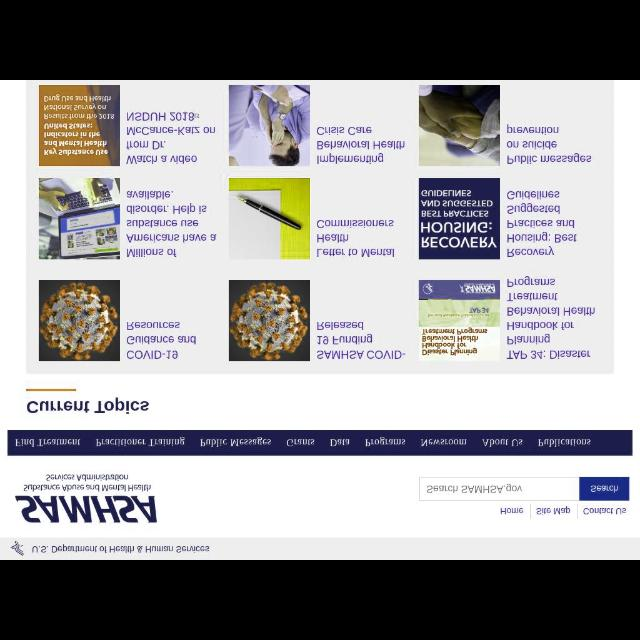icon: (195, 112, 201, 118)
image: (38, 178, 120, 260), (228, 178, 310, 260), (230, 84, 310, 166), (40, 84, 120, 166), (419, 280, 501, 360), (38, 280, 120, 360), (420, 86, 500, 166), (420, 178, 500, 258), (230, 280, 310, 360), (10, 540, 24, 556)
input: (419, 478, 578, 500)
multitab: (8, 430, 632, 456), (499, 505, 626, 515)
panel: (26, 80, 614, 374)
text: (506, 275, 596, 359), (126, 190, 218, 258), (507, 190, 578, 258), (15, 496, 156, 522), (316, 320, 406, 360), (126, 126, 216, 164), (316, 126, 406, 164), (507, 124, 591, 164), (318, 219, 394, 257), (126, 320, 196, 360), (23, 474, 151, 492), (28, 397, 148, 413), (32, 545, 210, 553), (426, 482, 522, 493), (95, 437, 185, 447), (200, 437, 272, 447), (126, 112, 194, 120), (537, 438, 591, 448), (15, 438, 81, 446), (364, 437, 406, 447), (420, 439, 468, 447), (535, 505, 571, 515), (583, 507, 627, 515), (482, 439, 522, 447), (589, 485, 619, 493), (286, 439, 316, 447), (330, 438, 350, 448), (500, 507, 524, 515)
textbutton: (580, 476, 630, 500)
